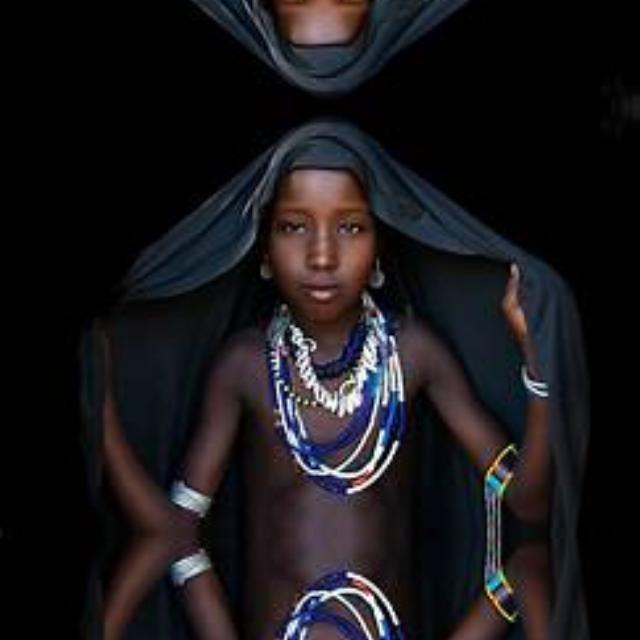person: (158, 138, 566, 530), (158, 535, 566, 640), (158, 0, 566, 74)
